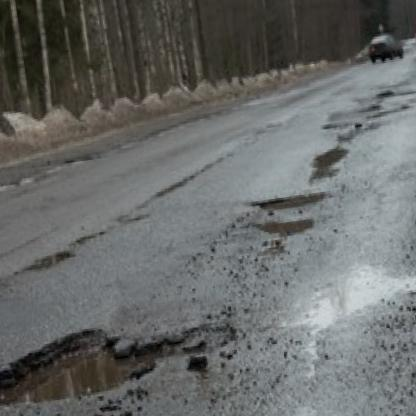pothole: (0, 307, 241, 415)
